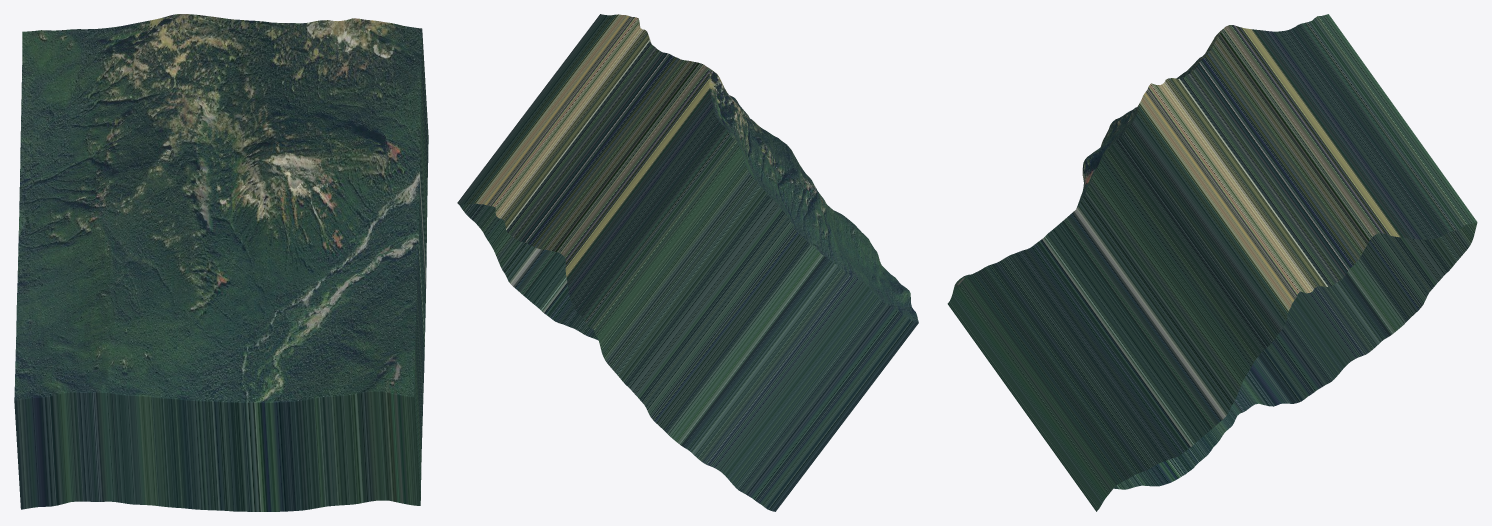
3 renders of one model, left to right at view 1: azimuth 30°, elevation 25°; view 2: azimuth 150°, elevation 25°; view 3: azimuth 270°, elevation 25°, orthographic. The views are drawn at different scales.
Size of the model in its own units: 5816 by 5565 by 6211.
1 material, 1 textured.
